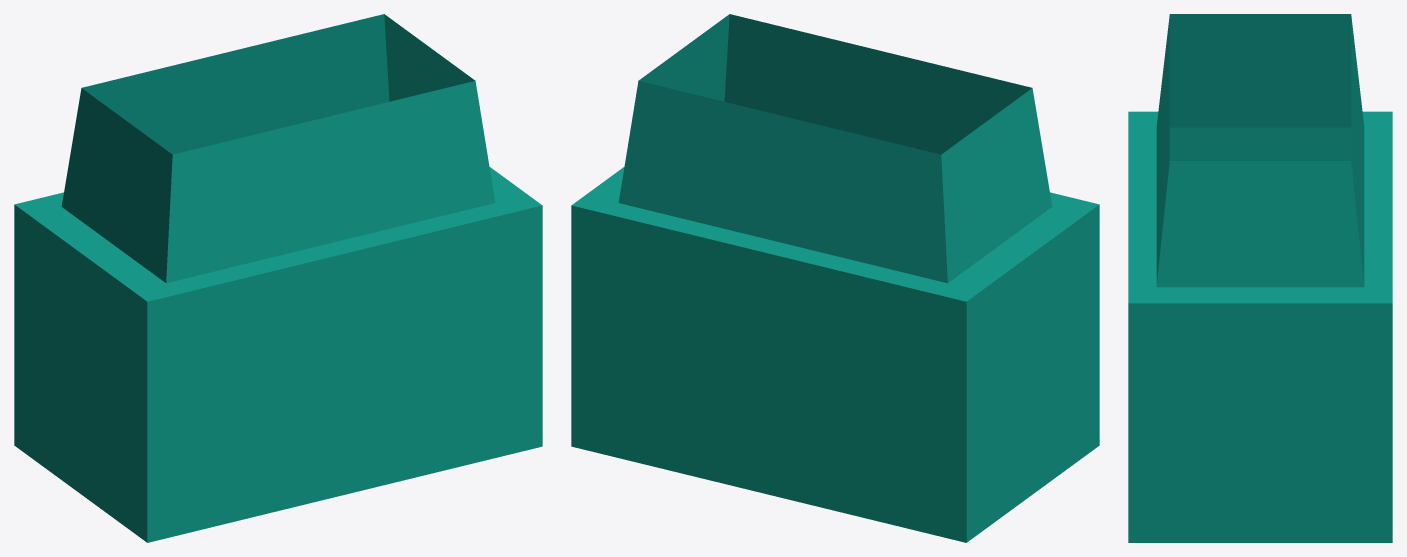
Rendered from ENV_WARUNG_PROP_PROTO_v001.obj.
3 renders of one model, left to right at view 1: azimuth 30°, elevation 25°; view 2: azimuth 150°, elevation 25°; view 3: azimuth 270°, elevation 25°, orthographic.
Parts seen in each view (by area): view 1: ENV_WARUNG_PROP_PROTO_v001; view 2: ENV_WARUNG_PROP_PROTO_v001; view 3: ENV_WARUNG_PROP_PROTO_v001.
Part boxes in pixels (x1,y1,x2,y2): ENV_WARUNG_PROP_PROTO_v001: (14, 14, 542, 542); ENV_WARUNG_PROP_PROTO_v001: (571, 14, 1099, 542); ENV_WARUNG_PROP_PROTO_v001: (1128, 14, 1392, 542).
Size of the model in its own units: 2.4 by 2.1 by 1.4.
